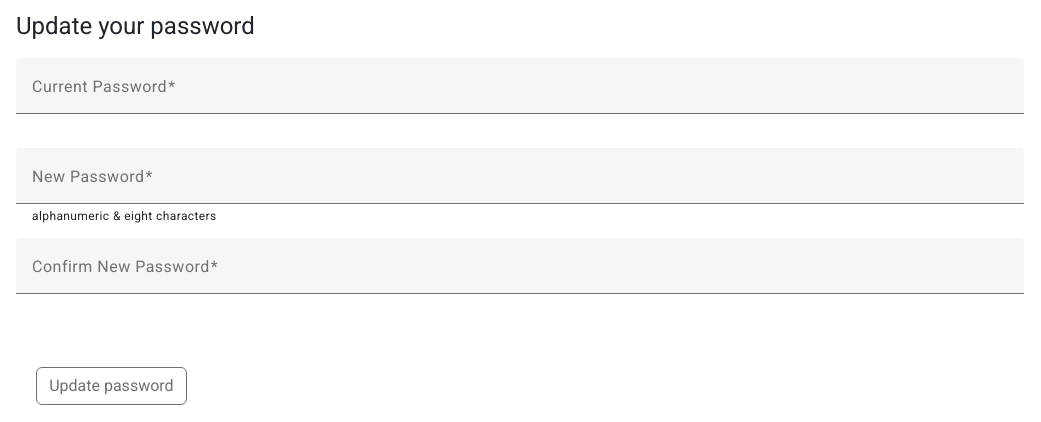
Scenario: AccountManagePasswordComponent › form completion and submission › old password control › password control › should show pattern validation messages when password input does not match patter
Type "kyuioptopl" into the password field with placeholder "password".
click(520, 184); type("kyuioptopl")  # box [32,172,1008,196]
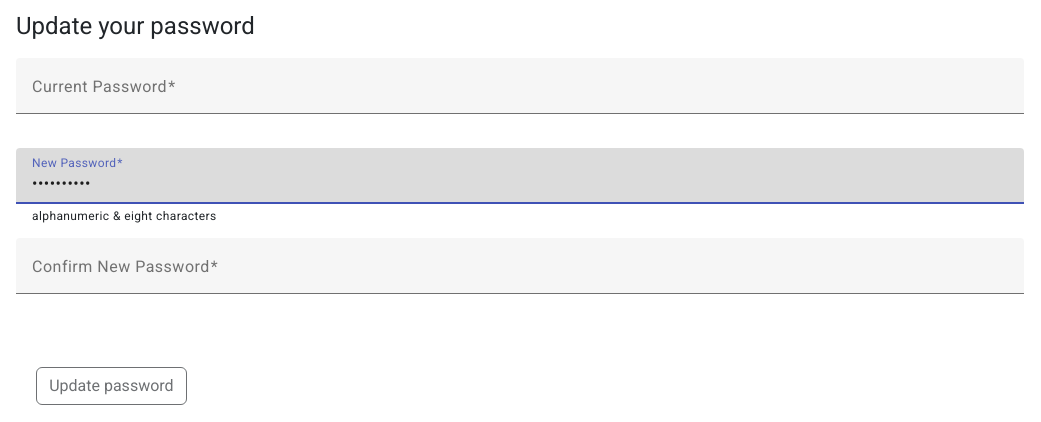
Leave the 2nd password field, box [32,172,1008,196]
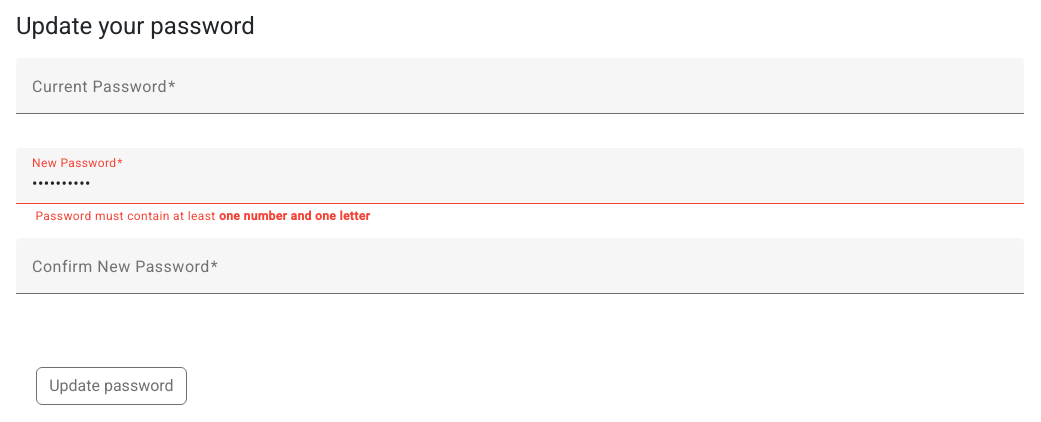
Check: the element showing "Password must contain at least one number and one letter" is shown, box [32,209,370,223]
